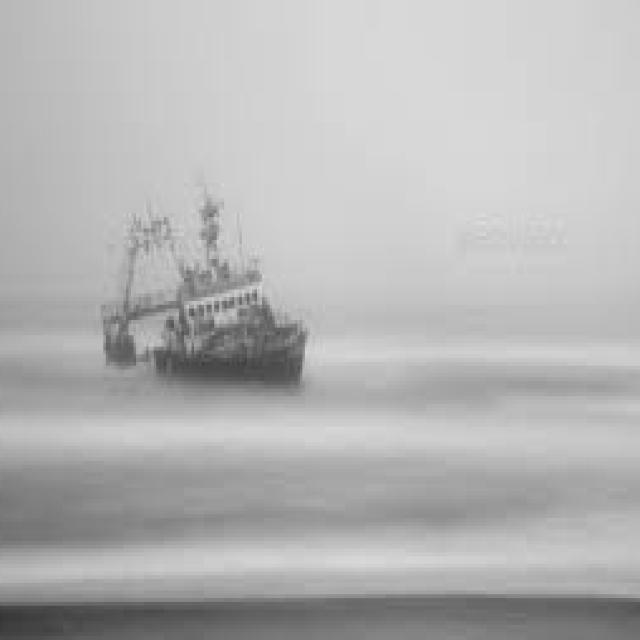fishing boat: (98, 195, 308, 387)
